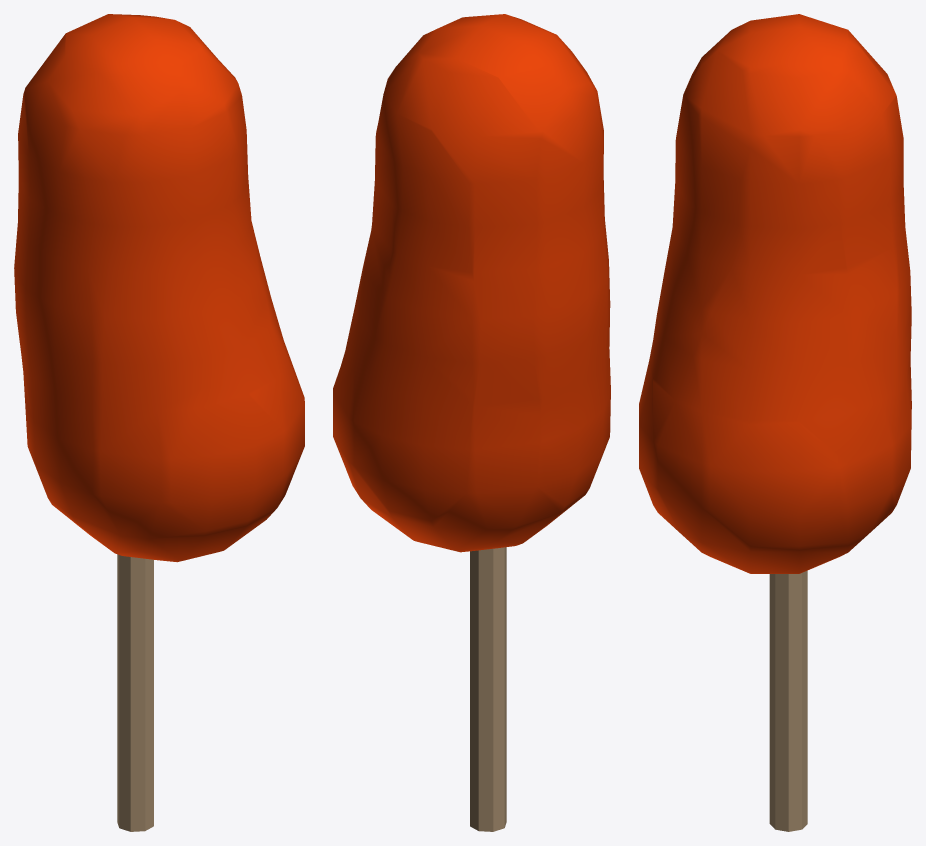
File: tree2.fbx
3 renders of one model, left to right at view 1: azimuth 30°, elevation 25°; view 2: azimuth 150°, elevation 25°; view 3: azimuth 270°, elevation 25°, orthographic.
Visible parts, largest first — view 1: Mball, Cylinder; view 2: Mball, Cylinder; view 3: Mball, Cylinder.
Boxes of the visible parts, box(x1,y1,x2,y2) form: Mball: box(14, 14, 304, 562); Cylinder: box(117, 554, 153, 831); Mball: box(333, 14, 610, 552); Cylinder: box(470, 547, 506, 831); Mball: box(639, 14, 911, 573); Cylinder: box(769, 570, 807, 831).
Size of the model in its own units: 594 by 1846 by 572.
